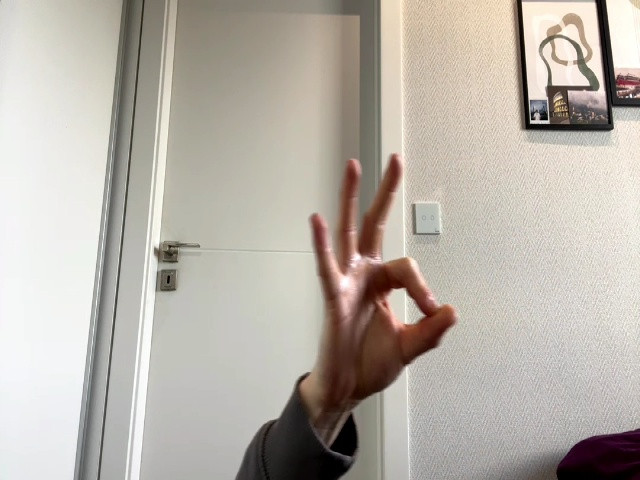O: (310, 154, 460, 392)
